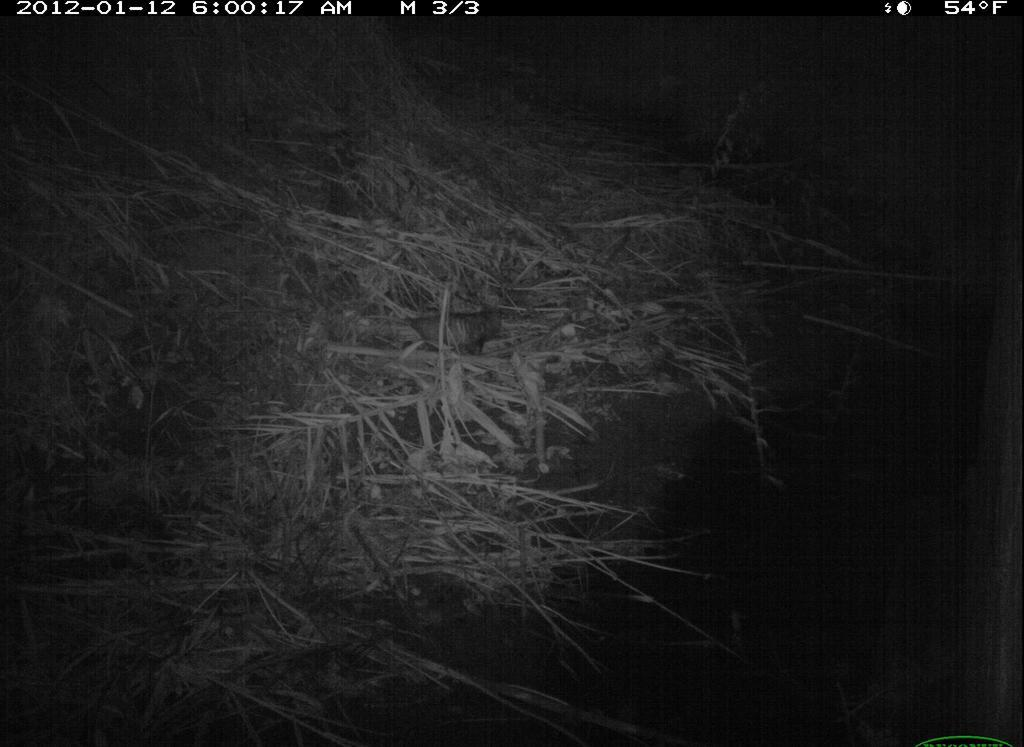opossum: (404, 304, 516, 355)
